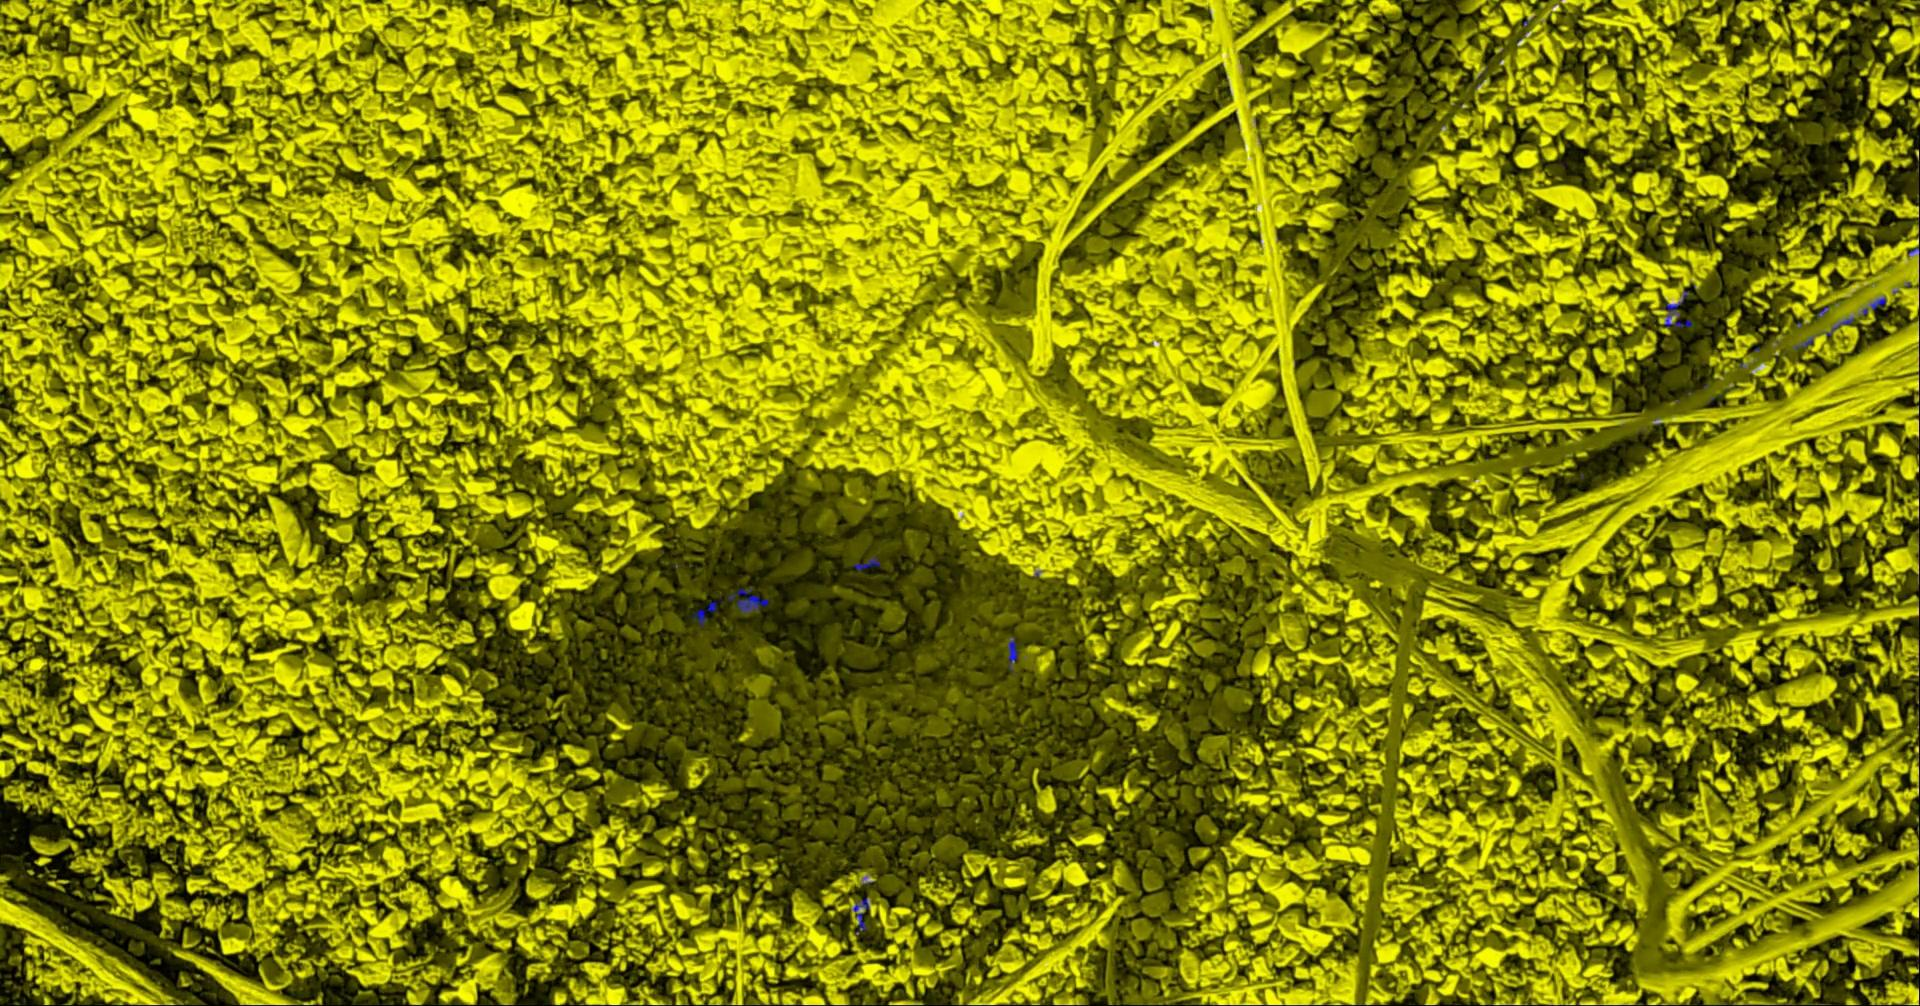ant: (728, 586, 768, 614), (1663, 290, 1691, 326), (691, 600, 721, 627), (1821, 316, 1854, 335), (1858, 296, 1886, 316), (853, 895, 869, 930), (853, 556, 879, 570), (1792, 334, 1815, 349), (1007, 636, 1017, 671)
